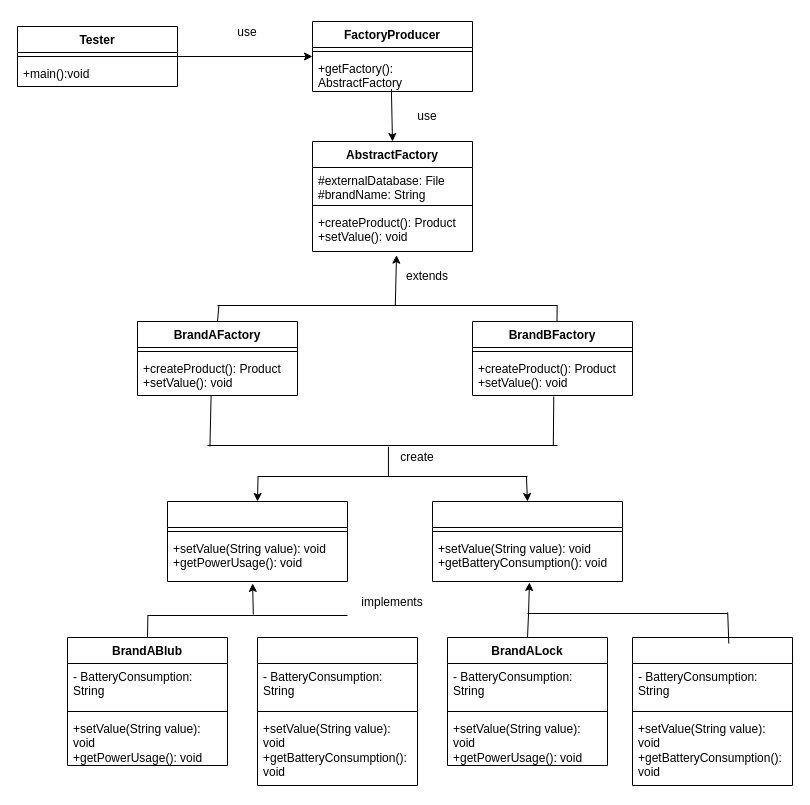
Some shapes in this 810 by 805 pixel diagram are drawn without their labels. Each missing label, with the box of its shape:
Blub: (166, 500, 348, 582)
BrandBBlub: (256, 636, 418, 786)
BrandBLock: (632, 636, 792, 786)
Lock: (432, 500, 622, 582)
